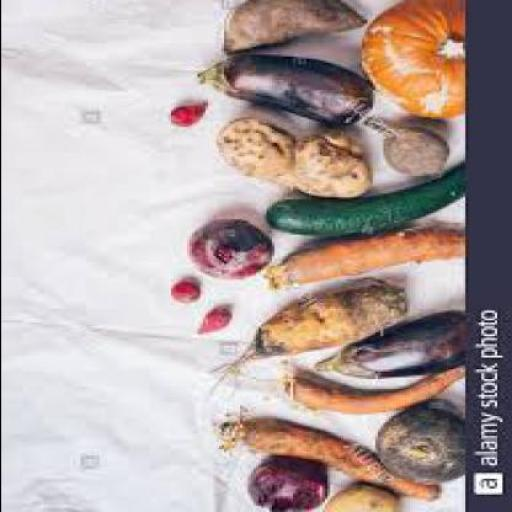biodegradable: (214, 420, 438, 502), (262, 164, 462, 241), (260, 225, 462, 291), (241, 281, 406, 361), (194, 54, 371, 128), (356, 3, 462, 123), (310, 313, 462, 379), (282, 370, 461, 418), (371, 402, 462, 485), (218, 2, 360, 55), (268, 135, 366, 201), (178, 223, 268, 283), (209, 121, 292, 182), (363, 119, 446, 178), (244, 459, 324, 511), (321, 486, 394, 511), (194, 311, 228, 336), (167, 107, 202, 129), (167, 281, 196, 305)
